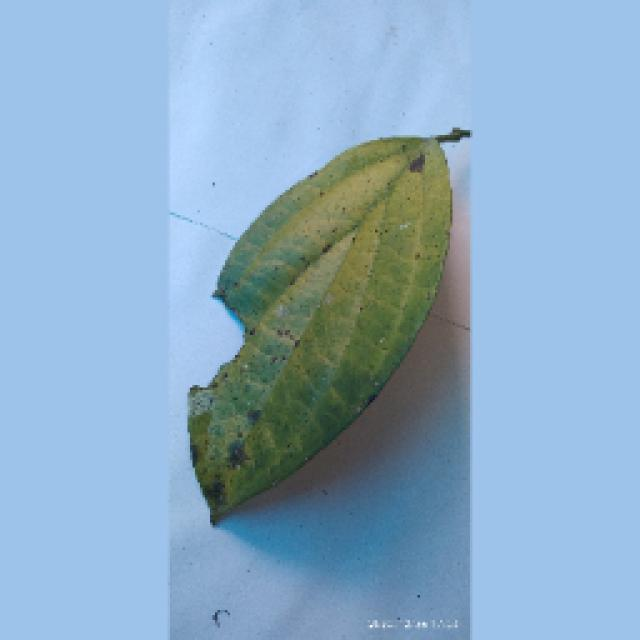slow-decline: (183, 127, 465, 525)
